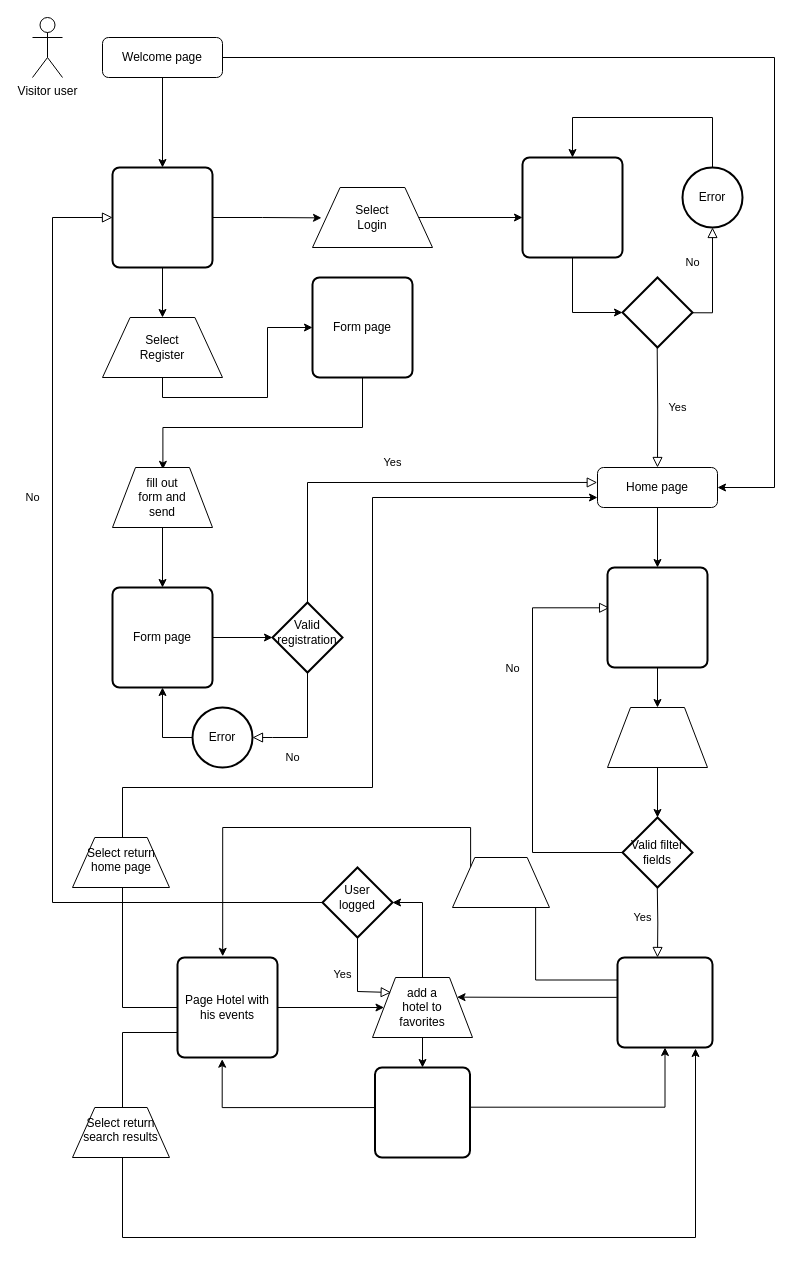
This 800x1263 diagram has some shape labels left out. The shapes that lost their labels are listed below. From the top down, each one's centre as x and y in pixels, then its label:
pixel 162 217: Login/register
pixel 572 207: Login page
pixel 657 312: Login correct
pixel 657 617: Hotels searchs for locations
pixel 657 737: fill out filter fields
pixel 501 882: Select hotels
pixel 664 1002: Search results
pixel 422 1112: Return Page Hotels/Search results
